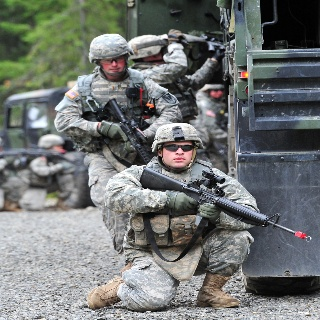rifle: (139, 166, 313, 243), (102, 98, 152, 162), (174, 30, 226, 55)
